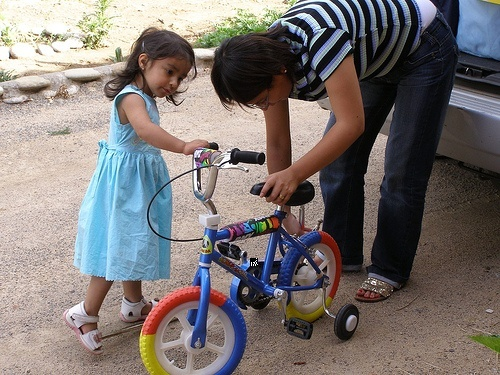car: (139, 145, 362, 372)
person: (211, 1, 462, 308), (68, 26, 185, 358)
person/foot: (63, 302, 102, 355), (355, 277, 396, 302), (119, 299, 162, 322)
person/hand: (260, 170, 298, 206), (280, 214, 303, 235), (184, 138, 209, 156)
person/head: (210, 35, 293, 106), (136, 30, 194, 98)
